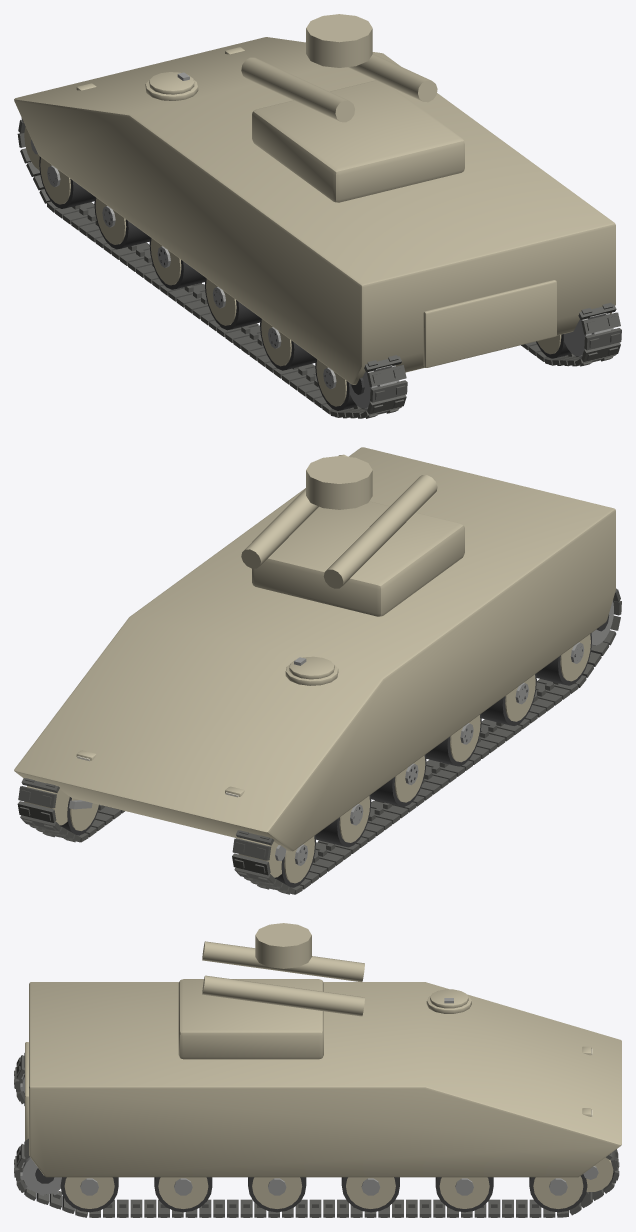
File: rus_td_khriz.glb
3 renders of one model, top to bottom at view 1: azimuth 30°, elevation 25°; view 2: azimuth 150°, elevation 25°; view 3: azimuth 270°, elevation 25°, orthographic. The views are drawn at different scales.
Parts seen in each view (by area): view 1: body, turret, barrel; view 2: body, turret, barrel; view 3: body, turret, barrel.
Part boxes in pixels (x1,y1,x2,y2): body: (14, 37, 621, 418); turret: (252, 80, 464, 202); barrel: (241, 14, 437, 122); body: (14, 447, 621, 894); turret: (252, 501, 464, 616); barrel: (241, 454, 437, 588); body: (14, 982, 621, 1217); turret: (178, 979, 323, 1059); barrel: (202, 923, 364, 1016).
Size of the model in its own units: 3.1 by 3.17 by 7.52.
